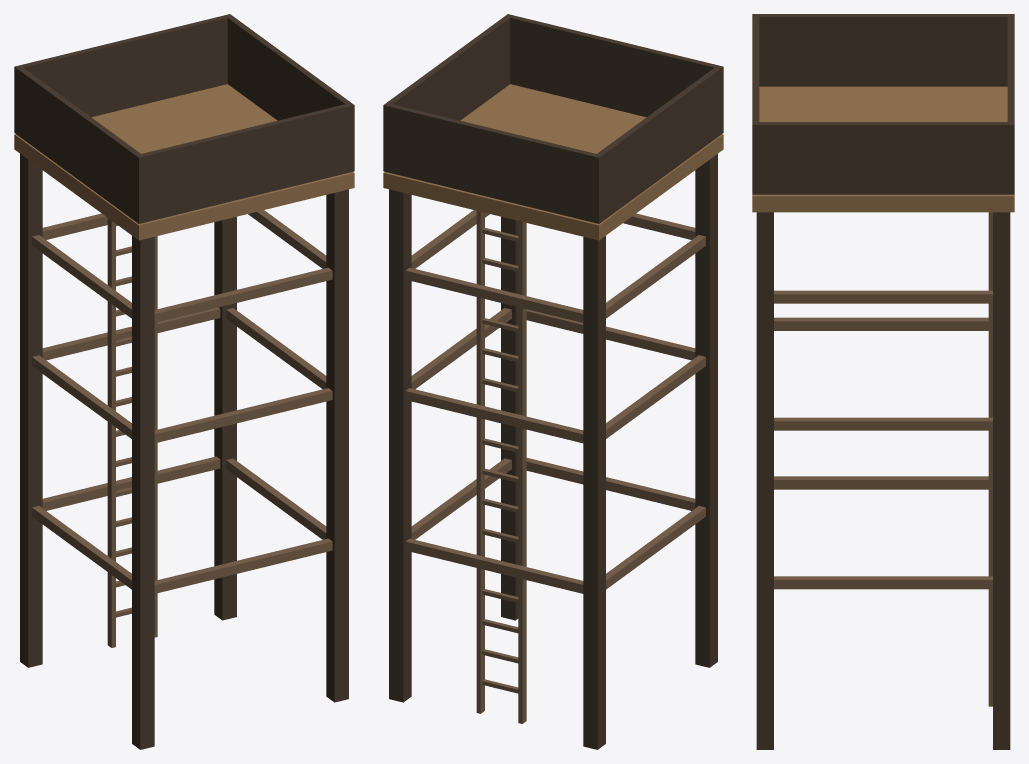
The model's file is watchtower.glb.
The picture shows the model from 3 angles, left to right: view 1: azimuth 30°, elevation 25°; view 2: azimuth 150°, elevation 25°; view 3: azimuth 270°, elevation 25°; orthographic projection. The views are drawn at different scales.
Parts seen in each view (by area): view 1: watchtower; view 2: watchtower; view 3: watchtower.
Boxes of the visible parts, bbox=[...] form: watchtower: bbox=[14, 14, 354, 749]; watchtower: bbox=[383, 14, 723, 749]; watchtower: bbox=[752, 14, 1014, 749].
Size of what is drawn, in the model's own units: 3 by 7.9 by 3.
Materials: 1 (1 with a texture image).
